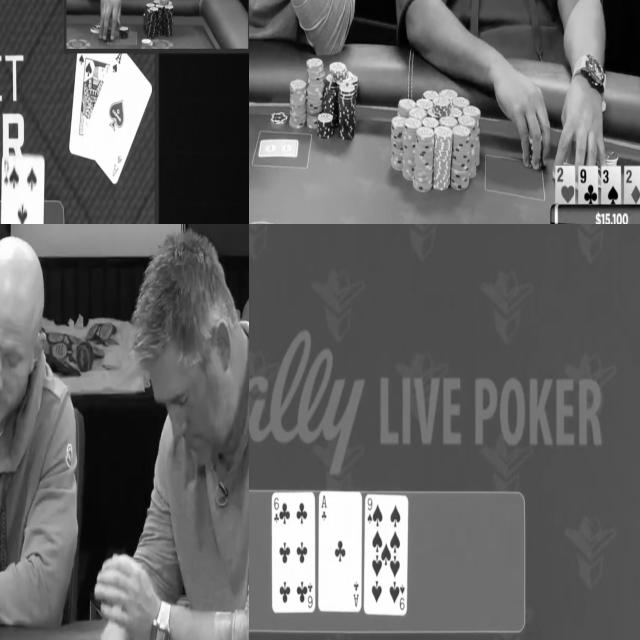2D: (624, 166, 640, 204)
2H: (555, 166, 574, 204)
3S: (602, 167, 620, 205)
9C: (579, 167, 598, 204)
